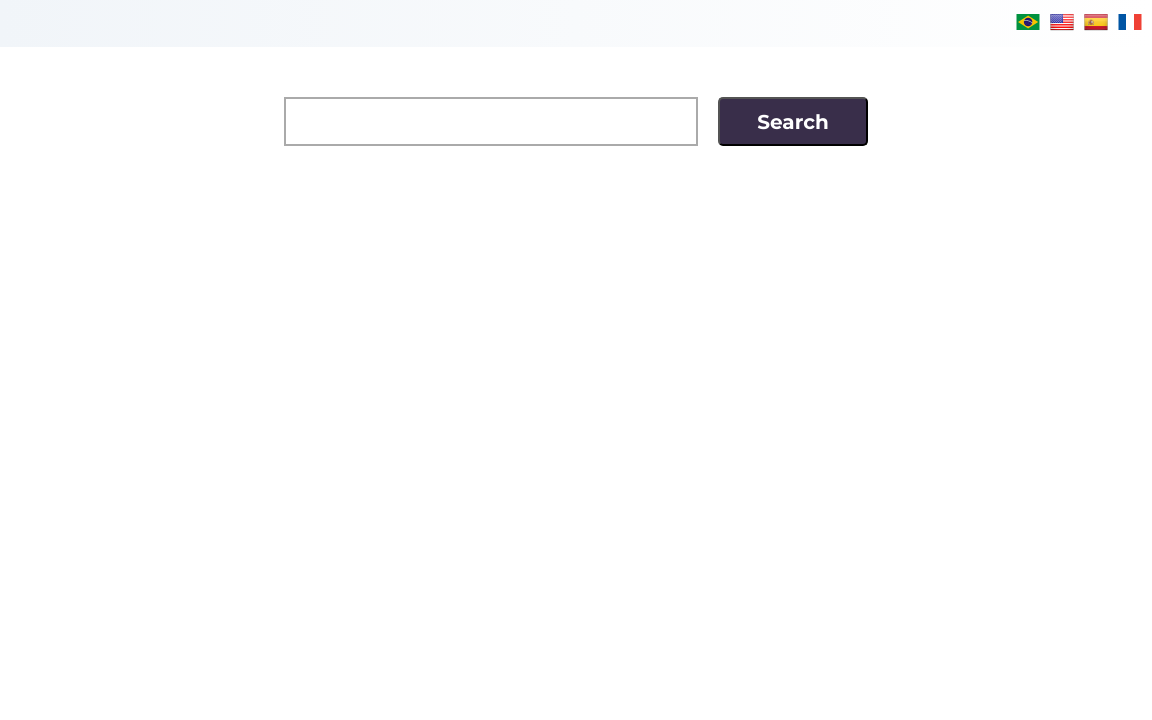
Test case: e2e tests over details page › should show correct meanings about a word
Type "a" into the field with test id "search-input". click: (491, 122)
box: [284, 97, 698, 146]
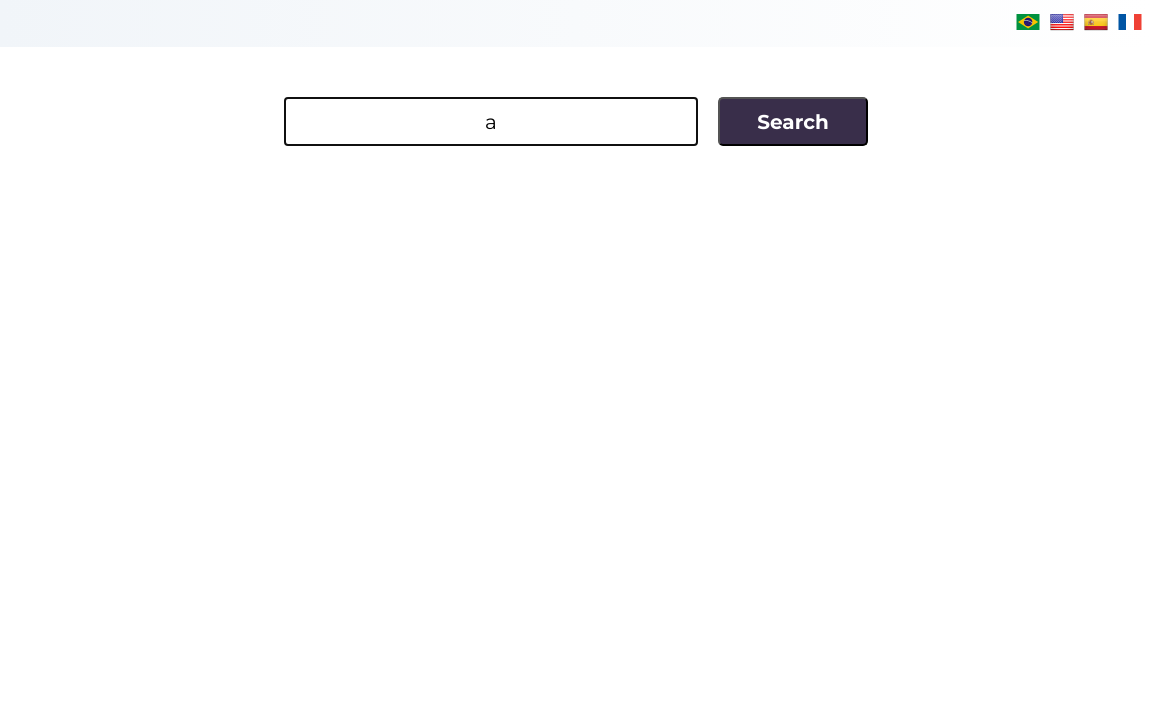
Click the button with test id "search-button". click: (793, 122)
box: [718, 97, 868, 146]
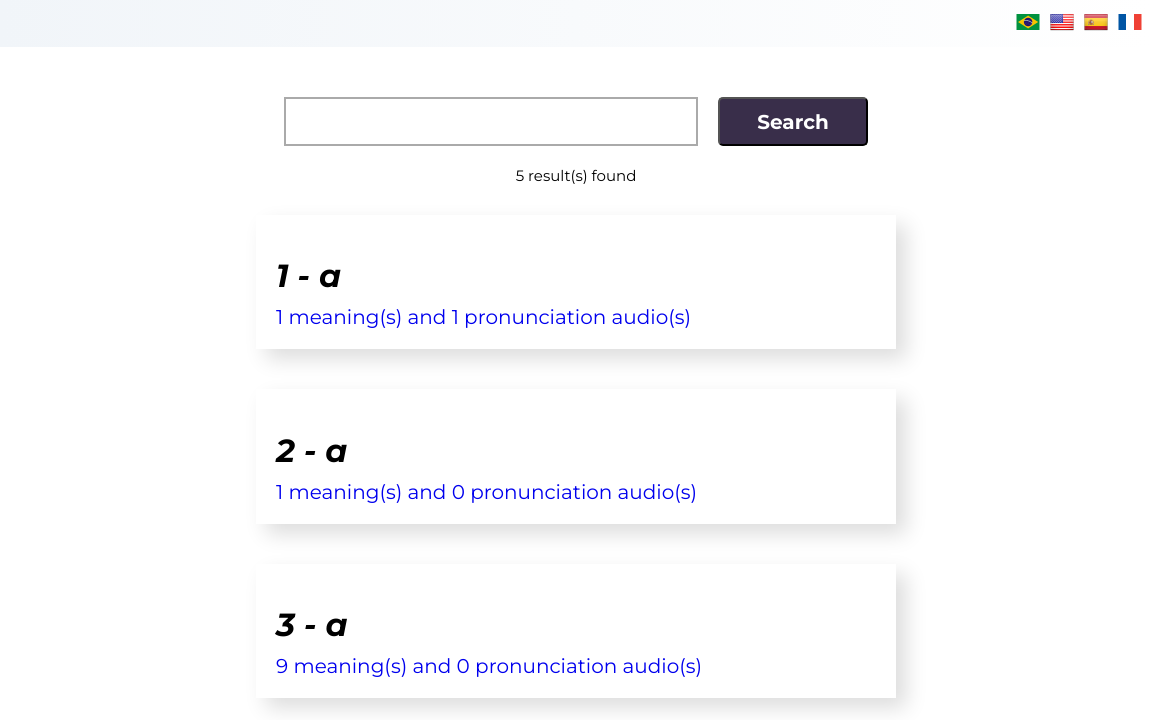
Click the 3rd text with test id "word-details". click: (489, 666)
box: [276, 654, 702, 678]
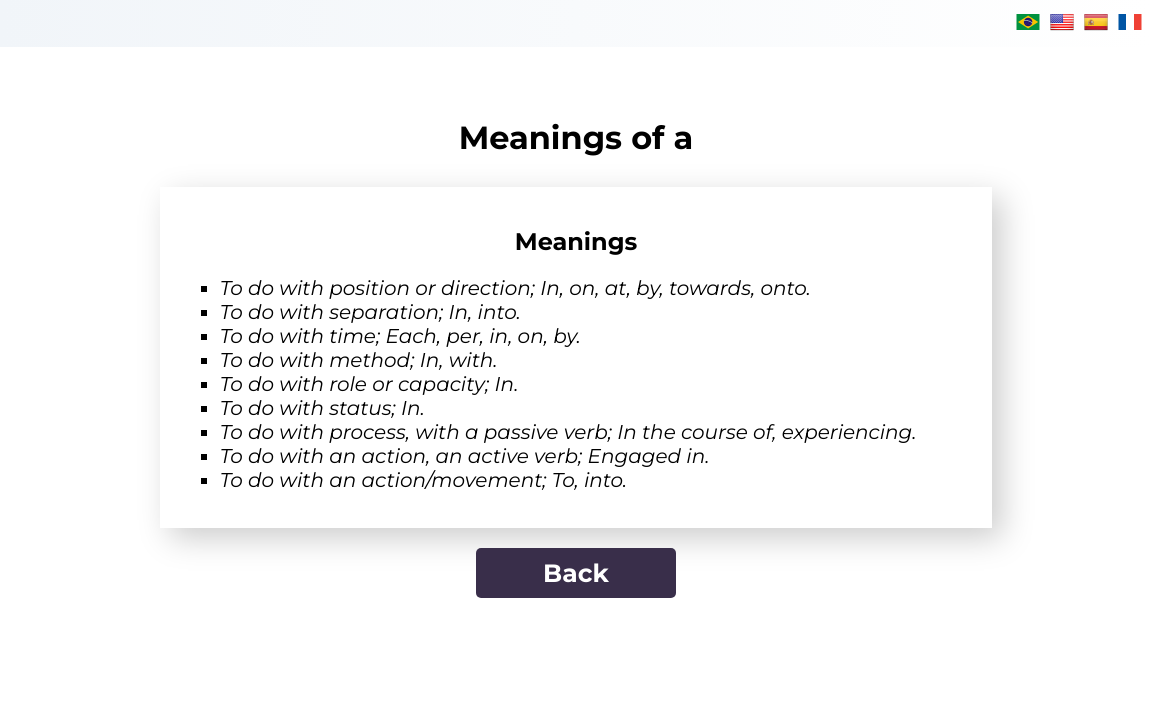
expect the 1st list item reads "To do with position or direction; In, on, at, by, towards, onto.": met, box [220, 276, 811, 300]
